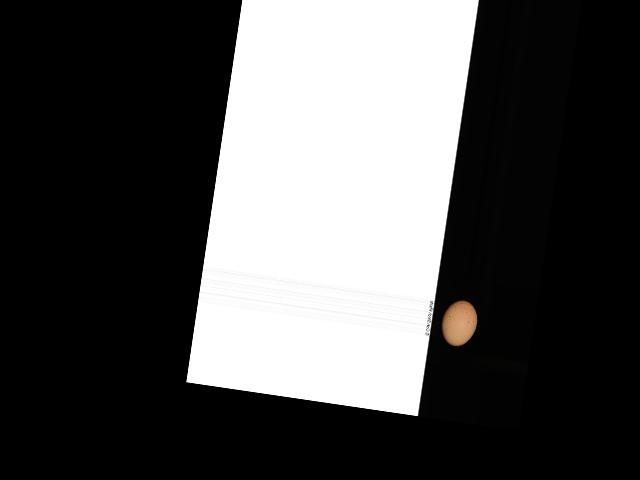egg: (438, 297, 479, 348)
